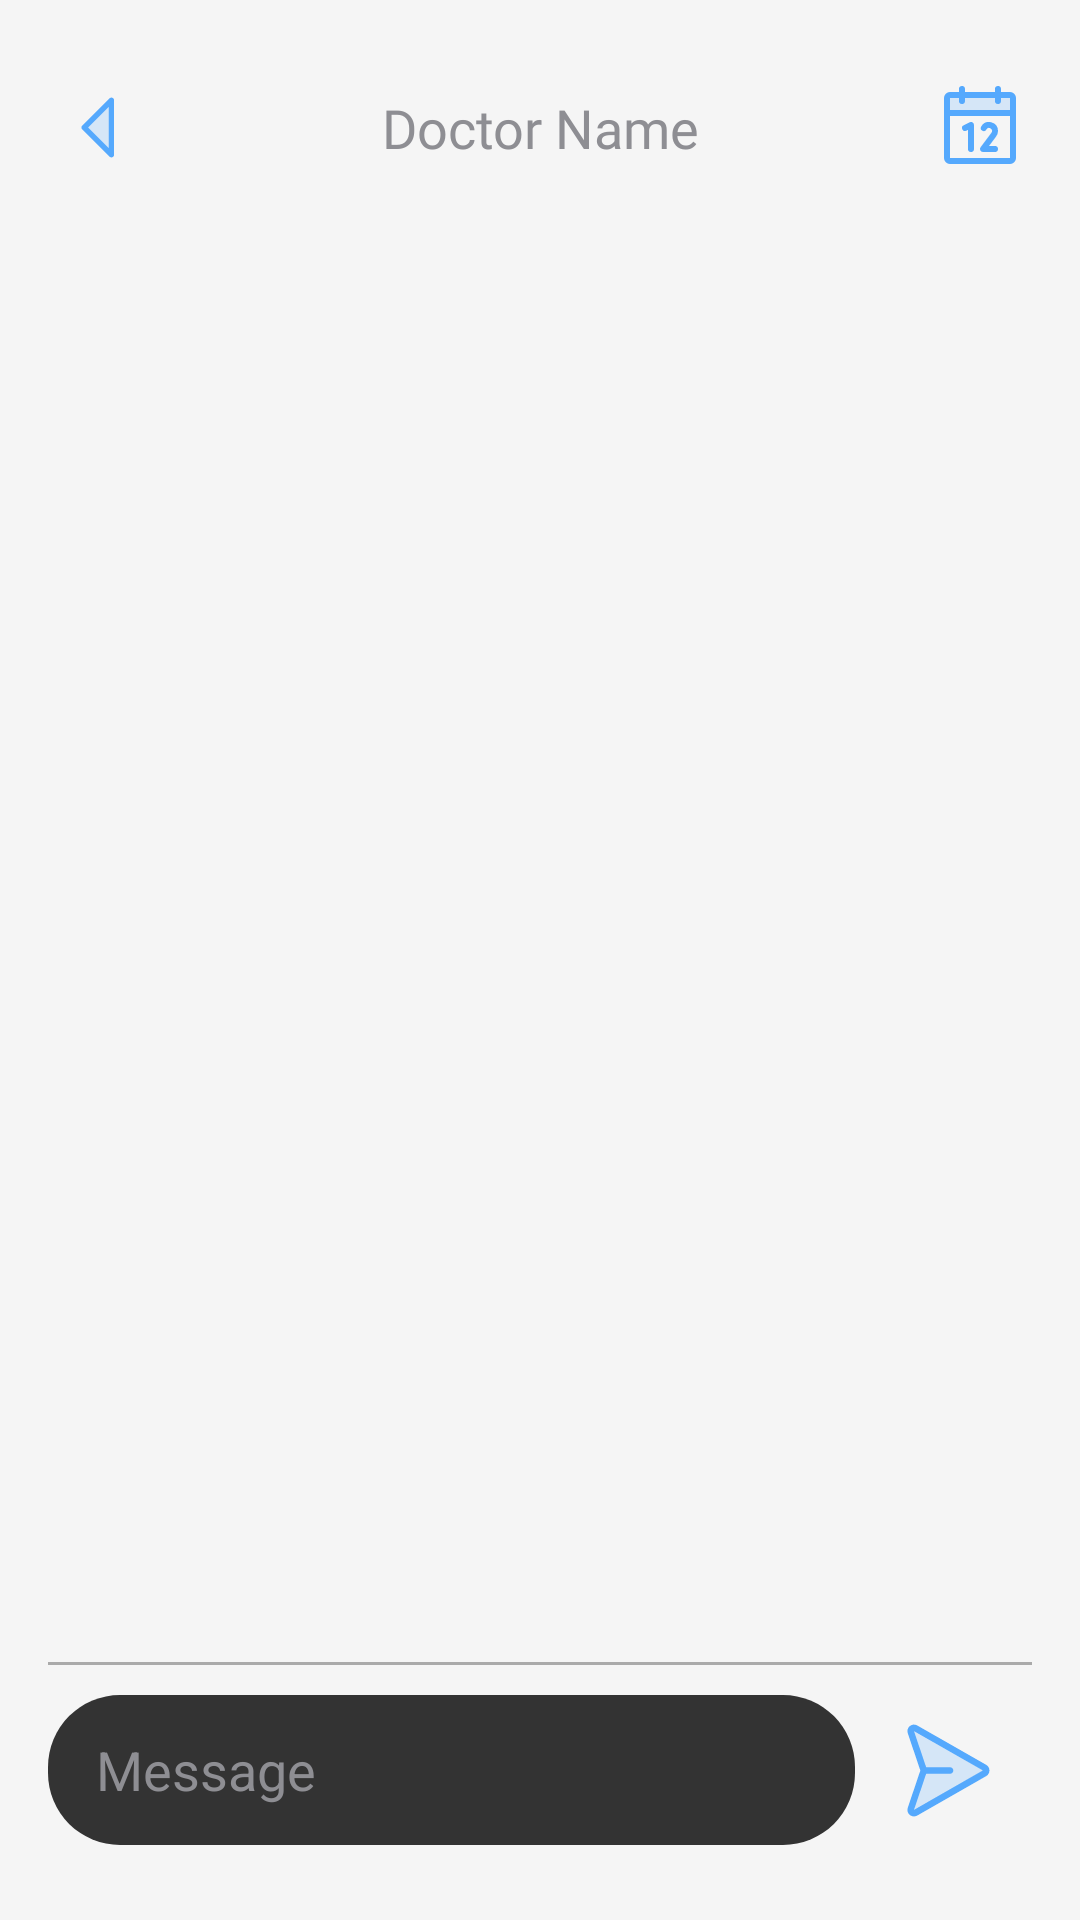

Where to tap for icons on this 1080×1920 app screen, as point (x, y):
arrow left: point (97, 127)
calendar: point (980, 125)
paper plane: point (948, 1770)
